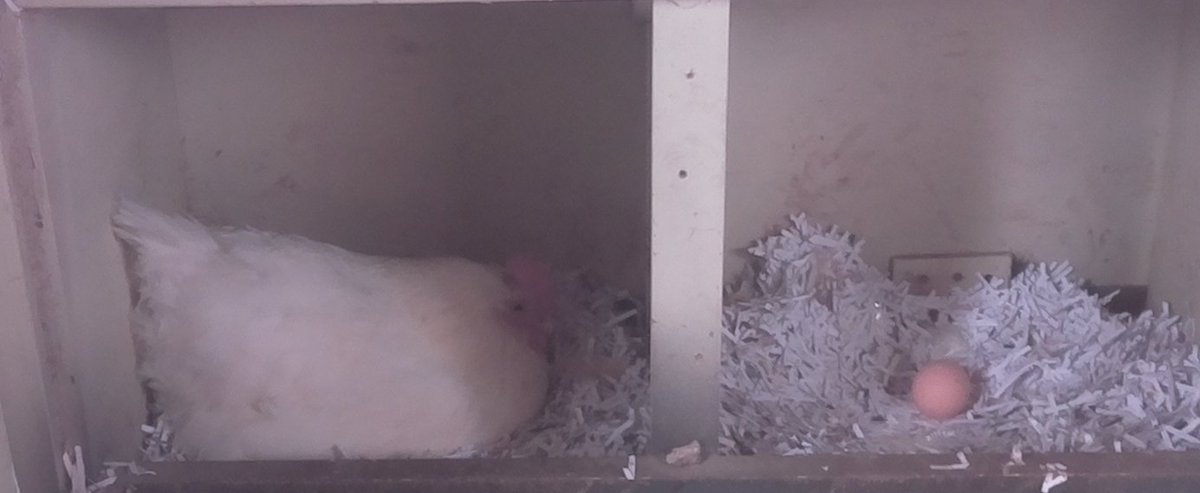egg: (909, 360, 982, 429)
hen: (96, 190, 579, 459)
